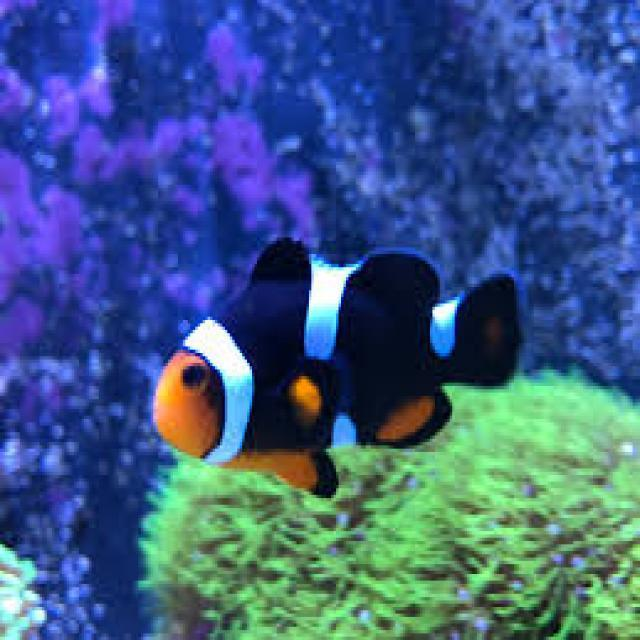ClownFish: (153, 235, 522, 500)
